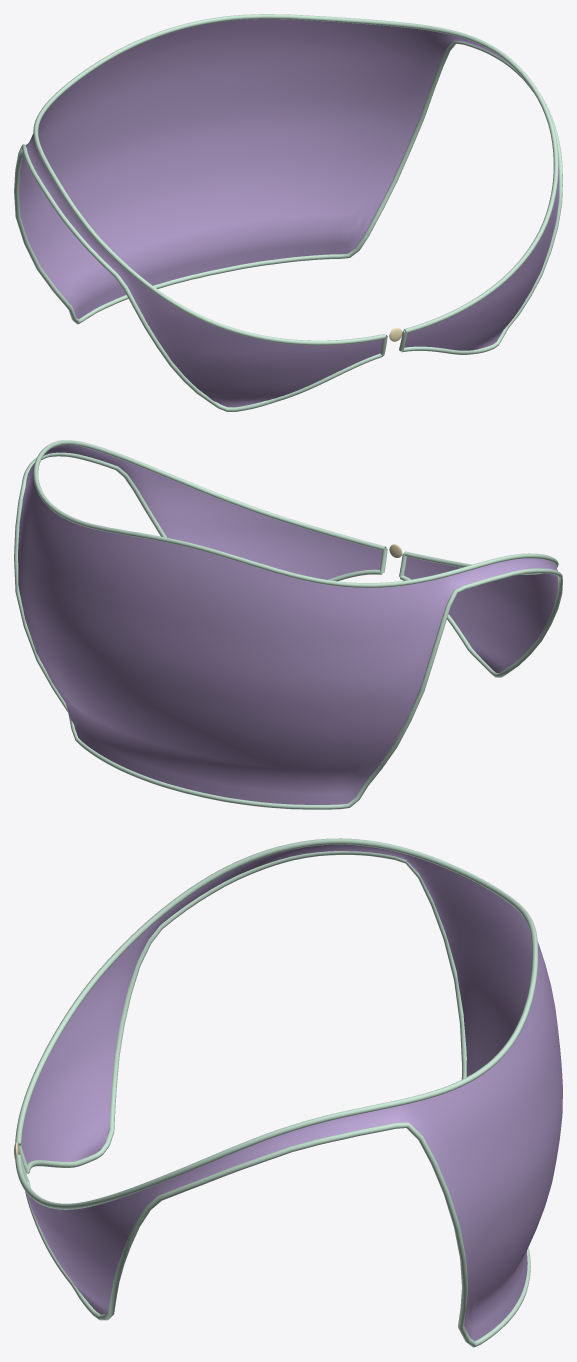
Rendered from 07-cape.glb.
3 renders of one model, top to bottom at view 1: azimuth 30°, elevation 25°; view 2: azimuth 150°, elevation 25°; view 3: azimuth 270°, elevation 25°, orthographic. The views are drawn at different scales.
Visible parts, largest first — view 1: cape_cloth, cape_hem, cape_back_edge; view 2: cape_cloth, cape_hem, cape_back_edge; view 3: cape_cloth, cape_hem, cape_back_edge.
Boxes of the visible parts, x1,y1,x2,y2 form: cape_cloth: [19, 19, 559, 407]; cape_hem: [14, 40, 562, 411]; cape_back_edge: [33, 14, 558, 345]; cape_cloth: [18, 445, 557, 804]; cape_hem: [14, 452, 562, 809]; cape_back_edge: [33, 440, 558, 587]; cape_cloth: [18, 844, 562, 1341]; cape_hem: [25, 851, 530, 1347]; cape_back_edge: [15, 838, 537, 1209].
Size of the model in its own units: 2.03 by 1.02 by 1.6.
